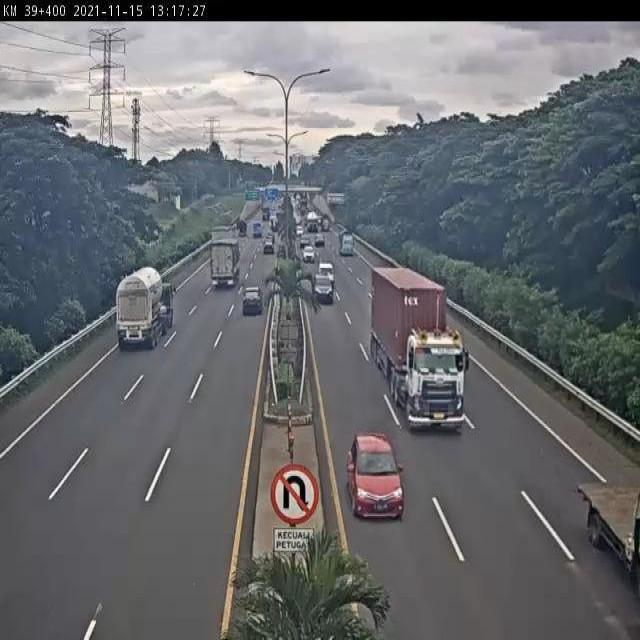car: (340, 424, 406, 523), (241, 284, 264, 317), (312, 271, 333, 304)
truck: (365, 264, 475, 441), (575, 478, 638, 614), (112, 268, 177, 356), (206, 235, 244, 289), (315, 259, 336, 285)
